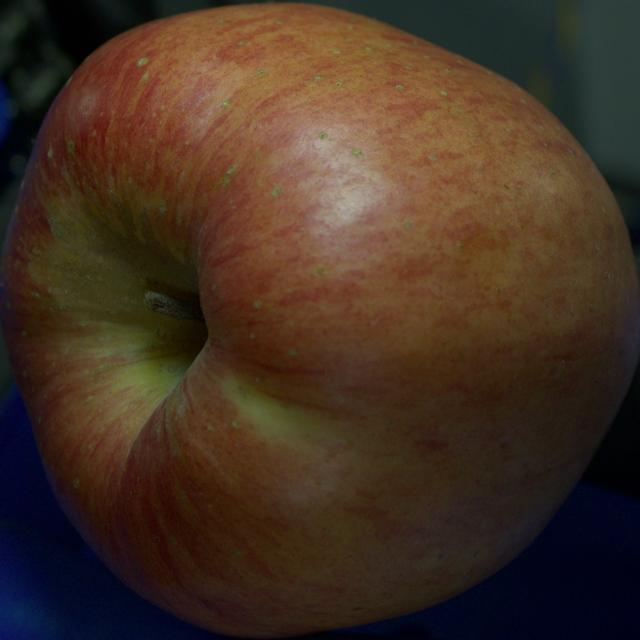apple: (0, 4, 639, 638)
